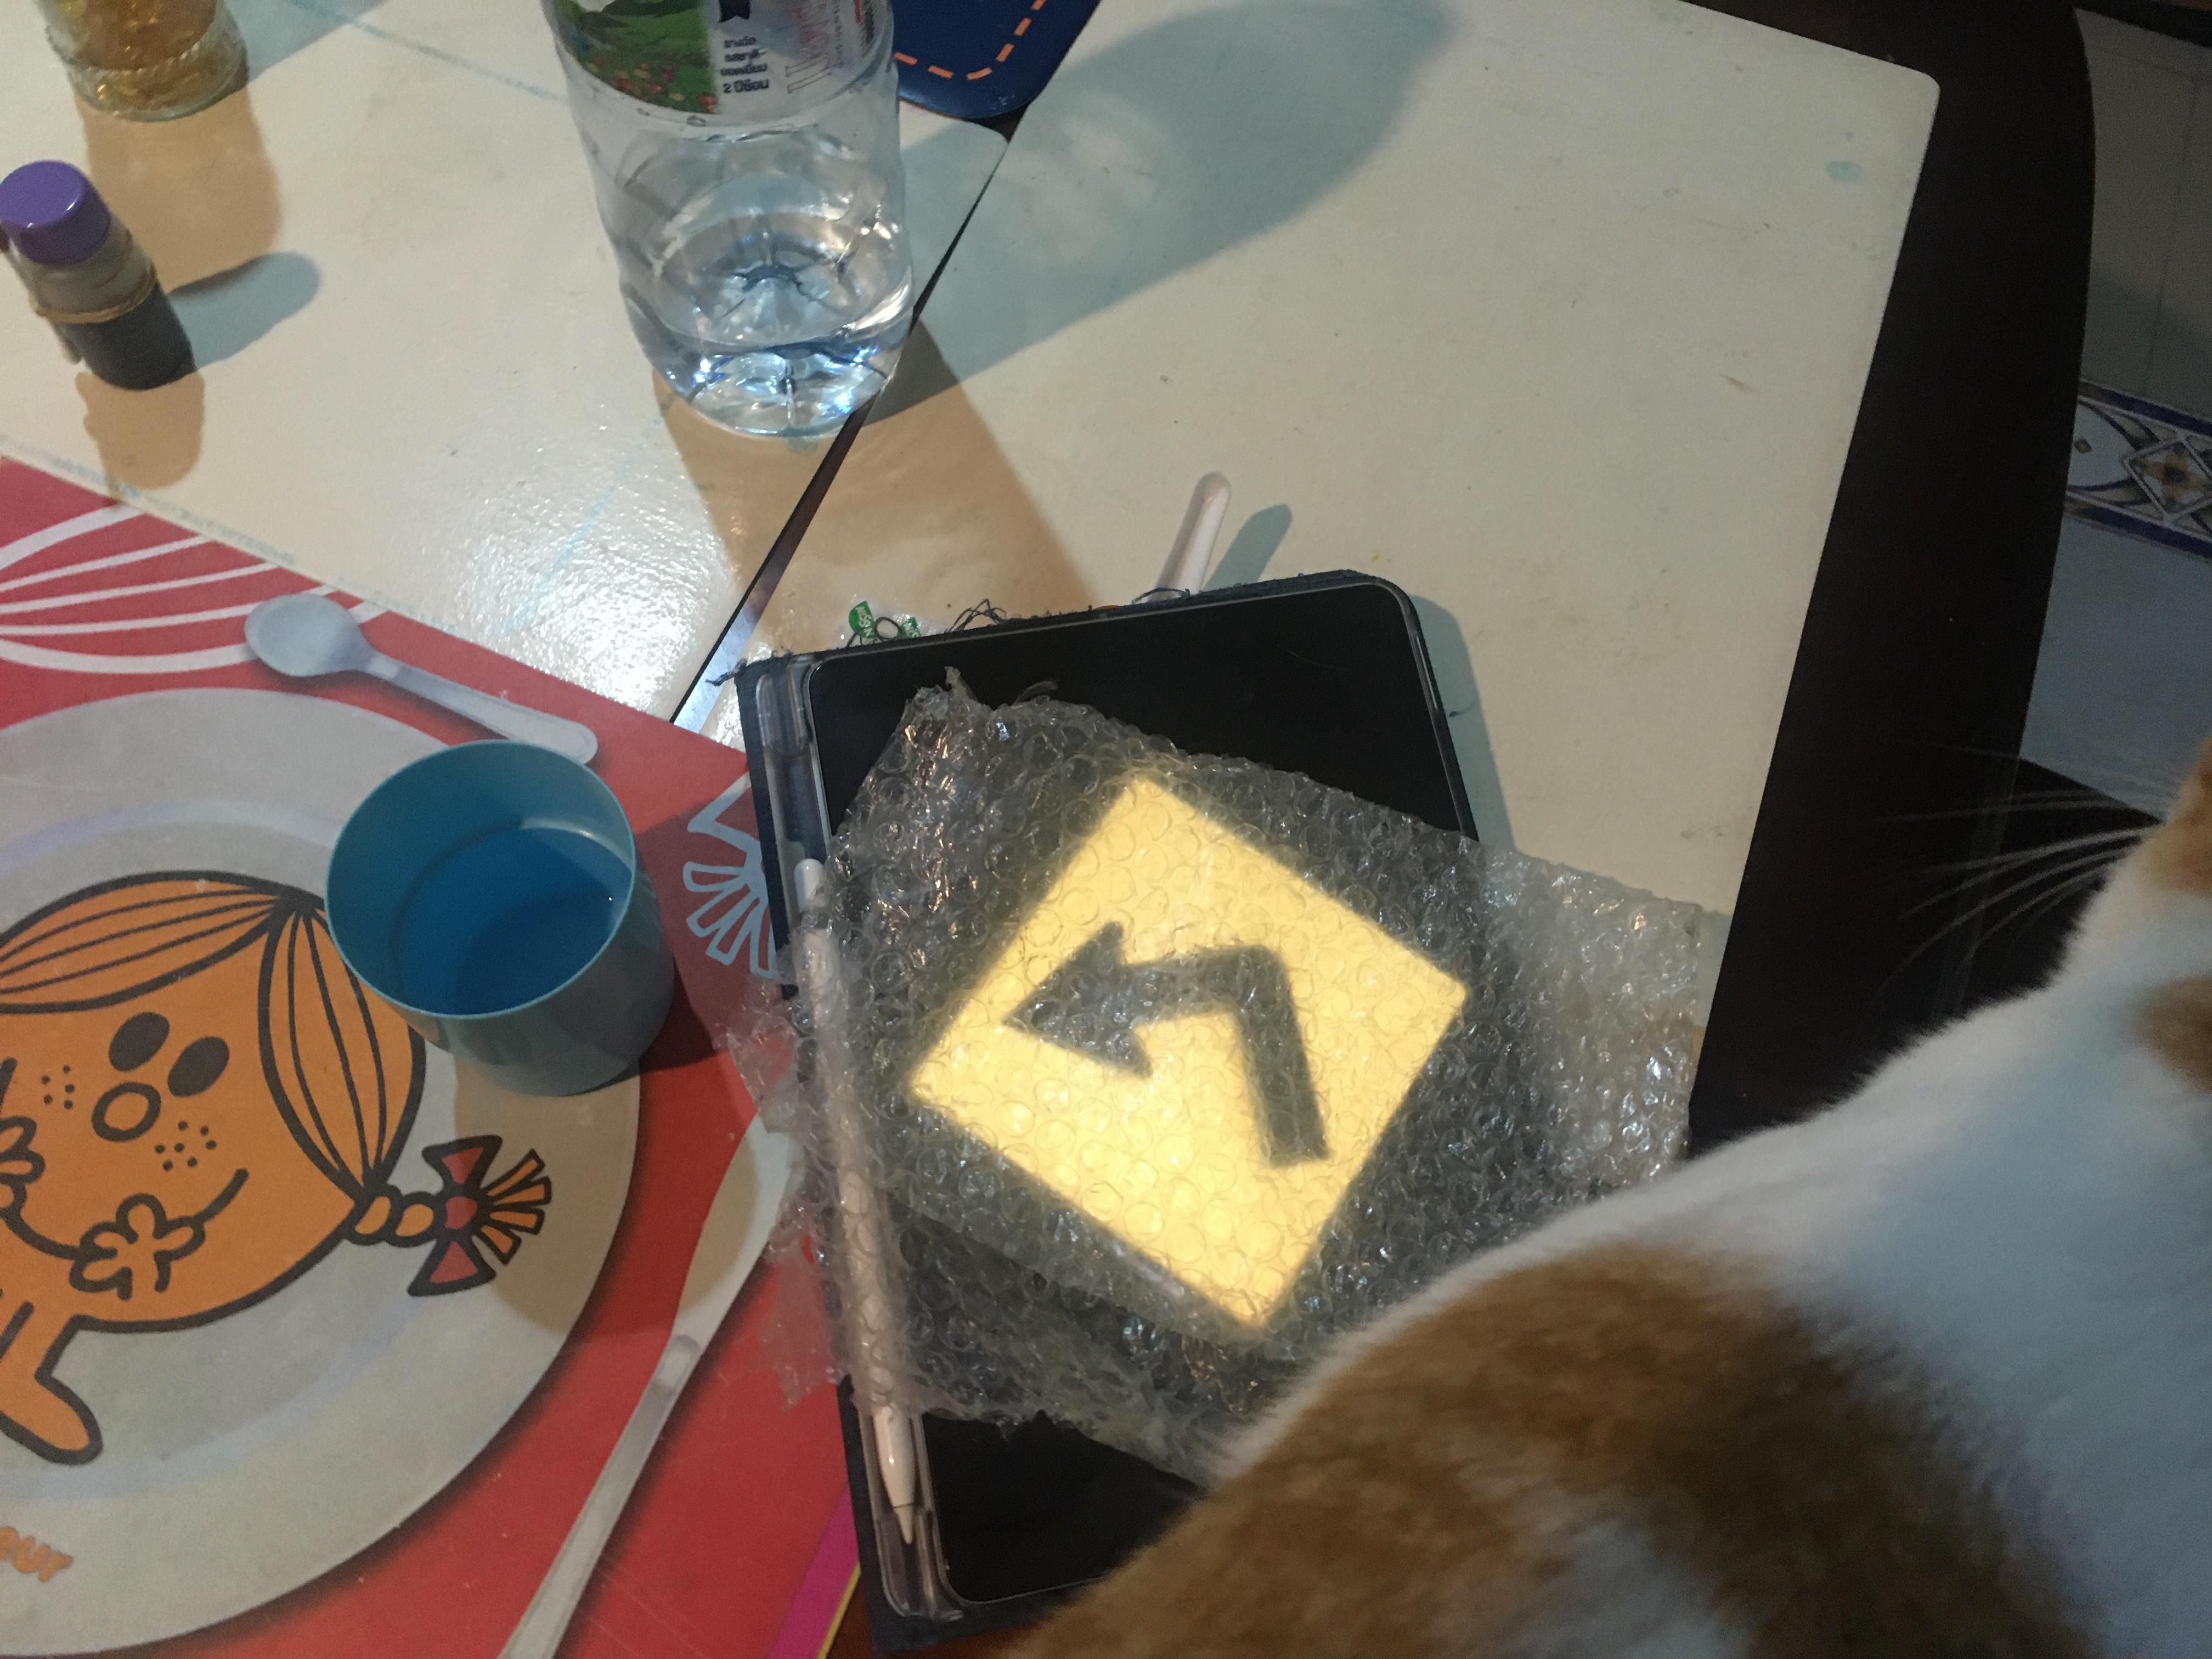left: (880, 746, 1497, 1346)
